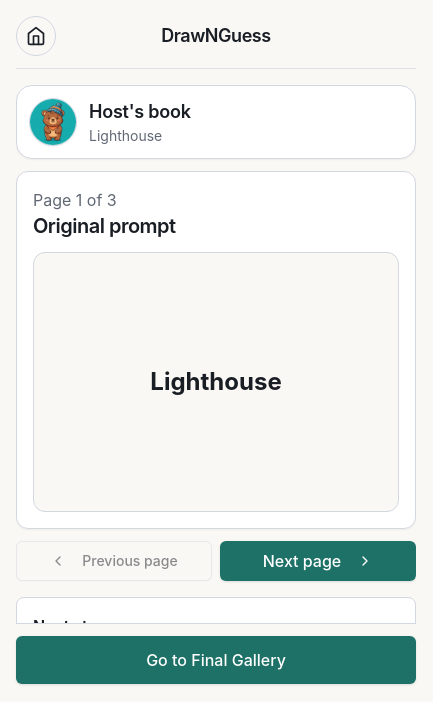
Test case: DrawNGuessMultiplayerView › lets a player move locally from presentation to the final gallery
Click the button "Go to Final Gallery": (216, 660) [16,636,416,684]
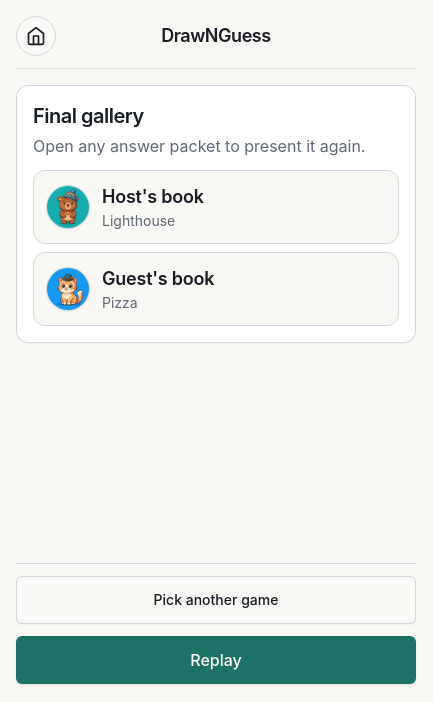
Now the heading "Final gallery" is shown, box [33,104,144,128]
Now the button "Guest's book Pizza" is shown, box [33,252,399,326]
